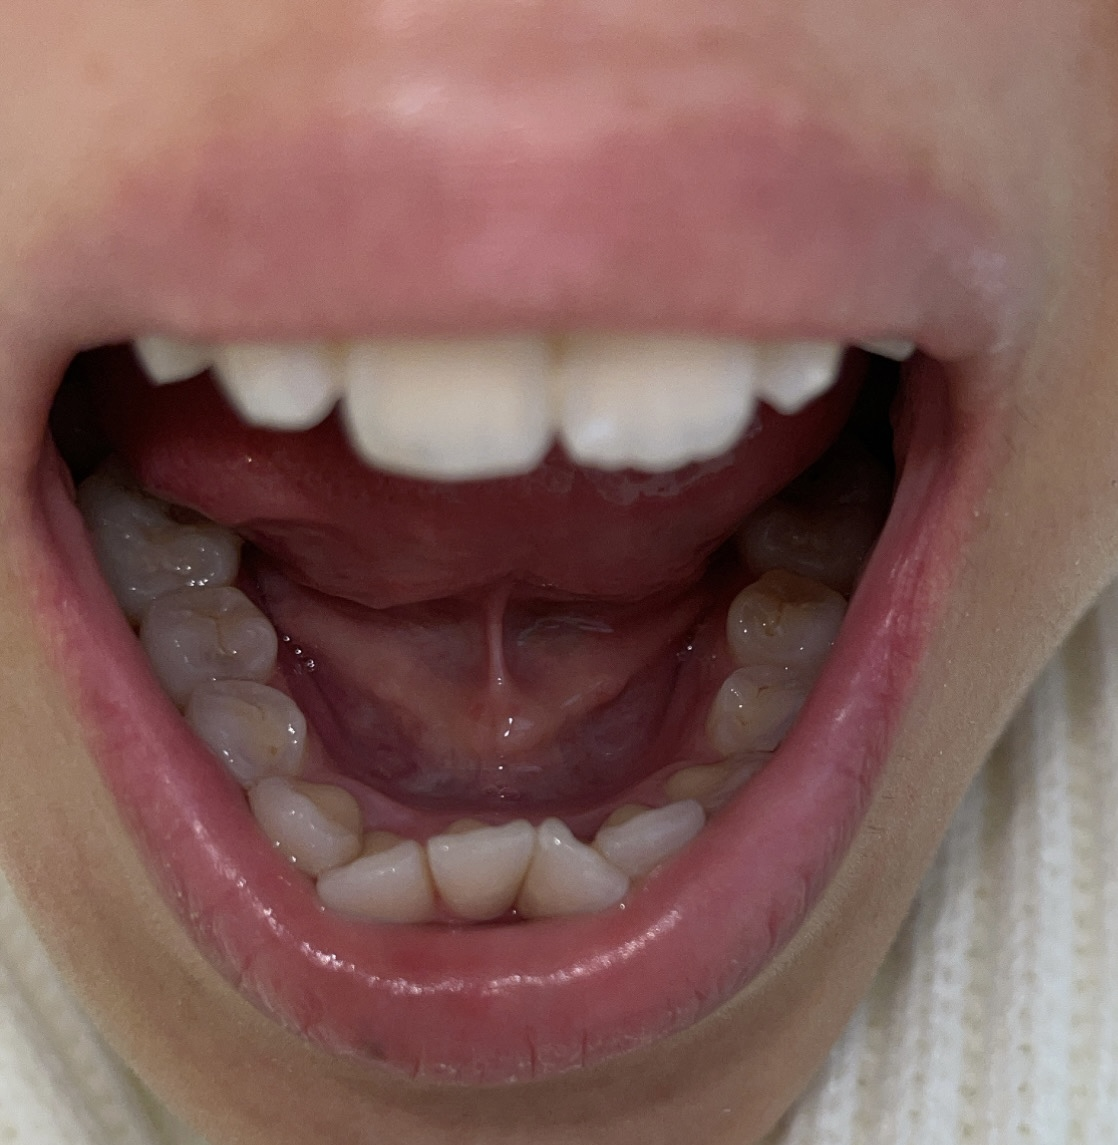teeth: (566, 340, 764, 470), (358, 344, 543, 480), (91, 481, 230, 607), (431, 818, 526, 923), (155, 601, 267, 687), (201, 686, 306, 776), (527, 821, 626, 914), (260, 787, 357, 875), (320, 840, 426, 920), (735, 575, 833, 658), (717, 665, 812, 747), (230, 346, 320, 421), (604, 810, 704, 871)
